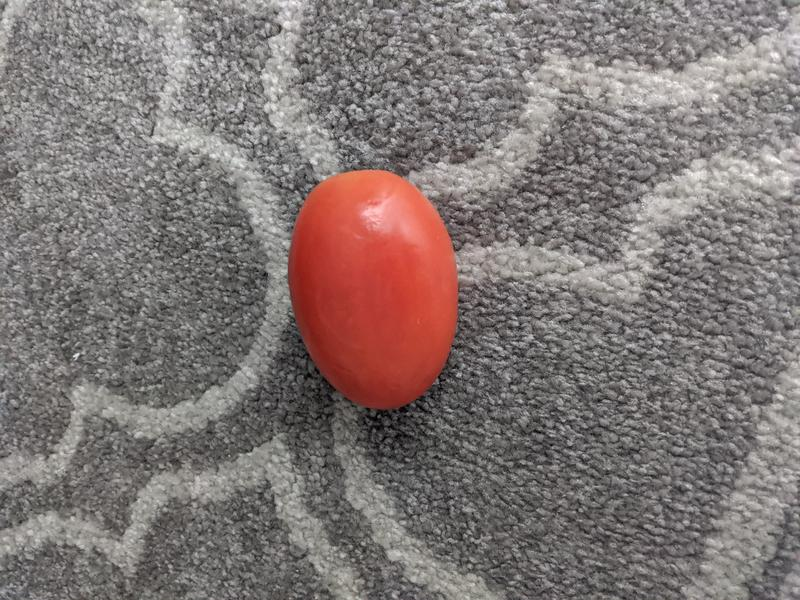tomato: (289, 169, 460, 410)
